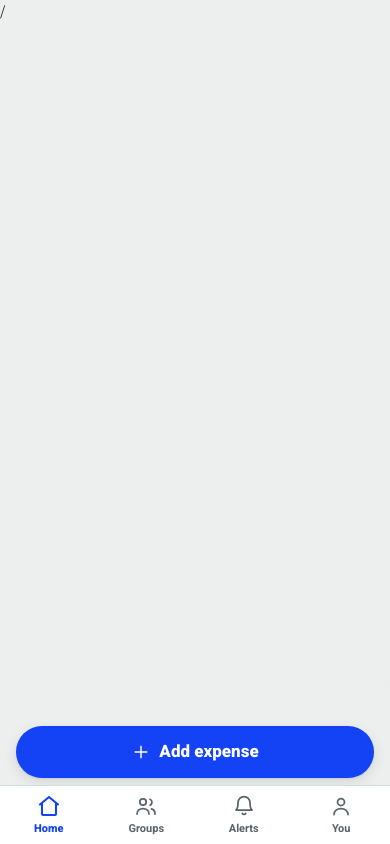
Test case: the + bar outside a group › opens a picker when there is more than one group to choose from
Step 1. Click the button "Add expense" → (195, 752), box [16,726,374,778]
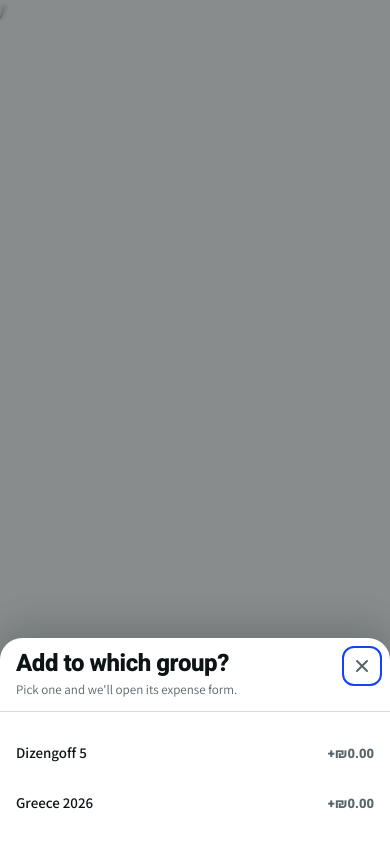
Check: the text "Dizengoff 5" is shown, box [16,743,87,762]
Check: the text "Greece 2026" is shown, box [16,793,93,812]
